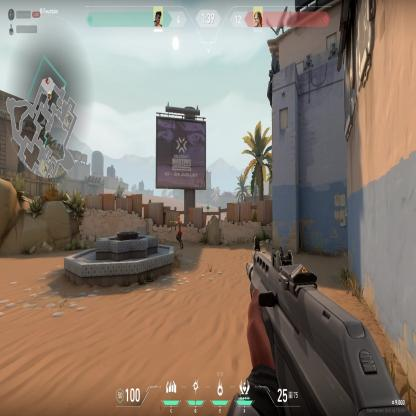enemy: (174, 215, 184, 250)
